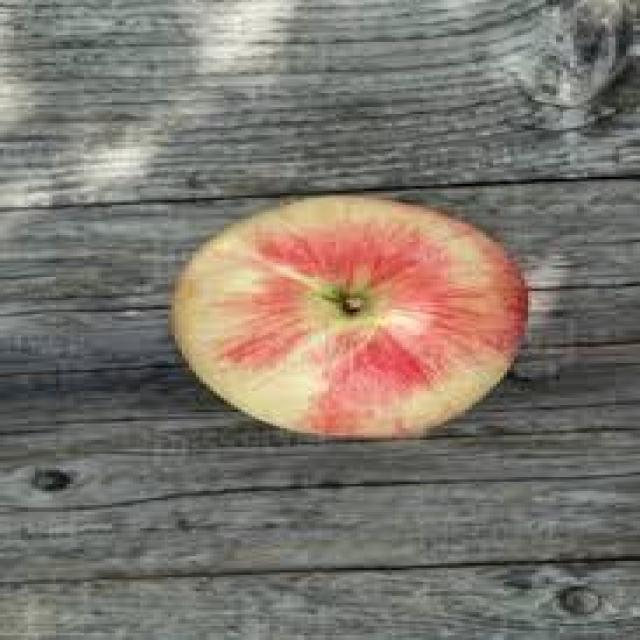maca: (168, 191, 528, 440)
